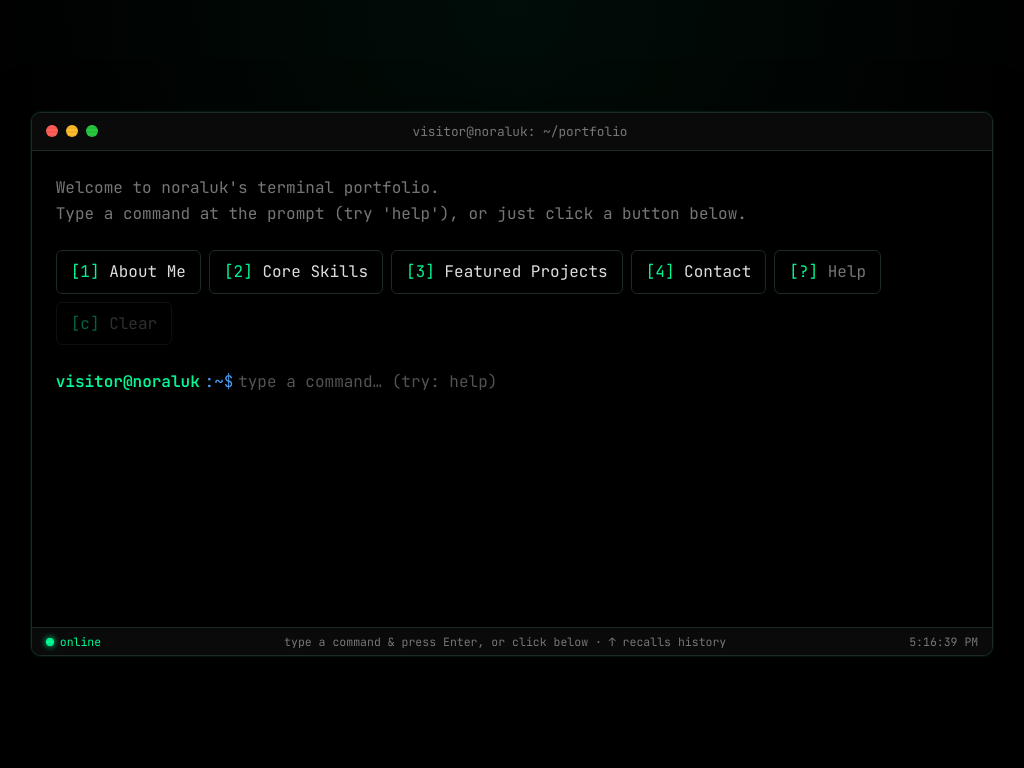
Terminal (reduced motion) › opens a project in a floating window from the browser
Step 1. Click the button "[3] Featured Projects" → x=507, y=272, box [391,250,623,294]
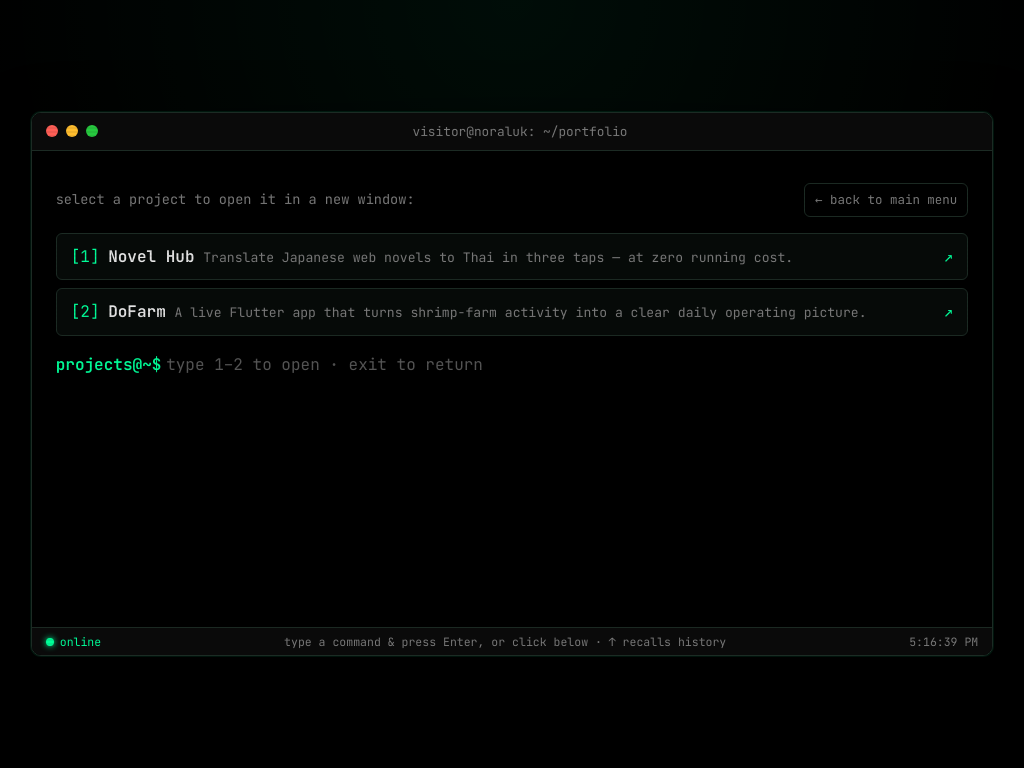
Step 2. Click the text "Novel Hub" → x=151, y=257, box [108,244,195,270]
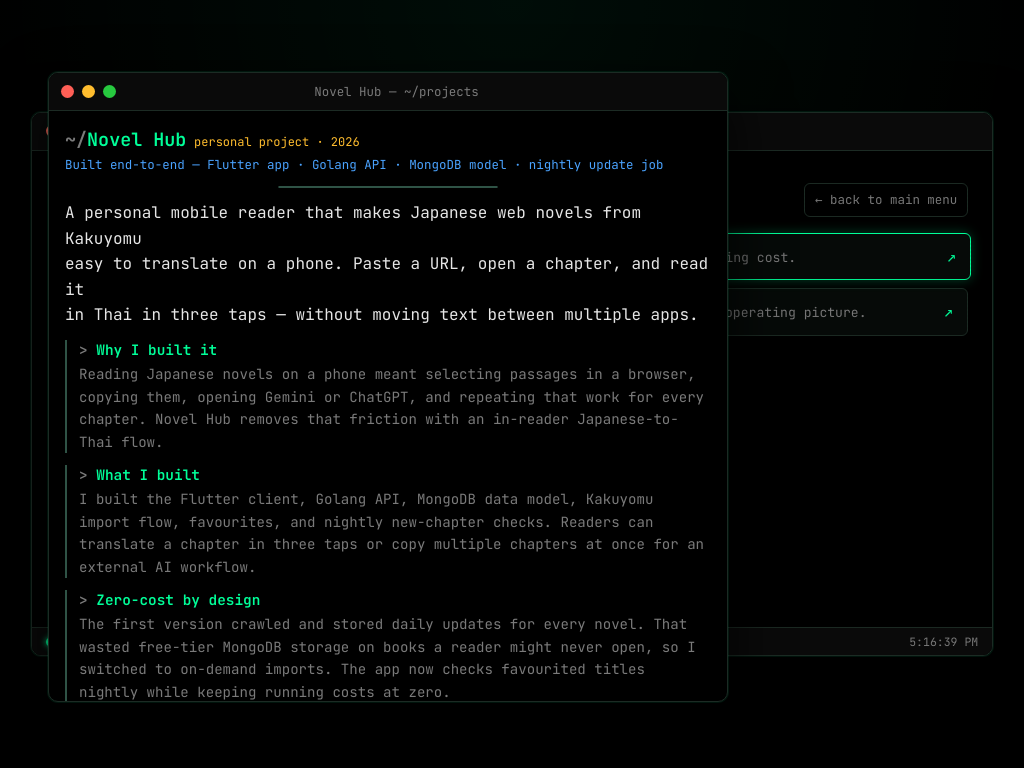
Now the dialog is shown, box [48,72,728,702]
